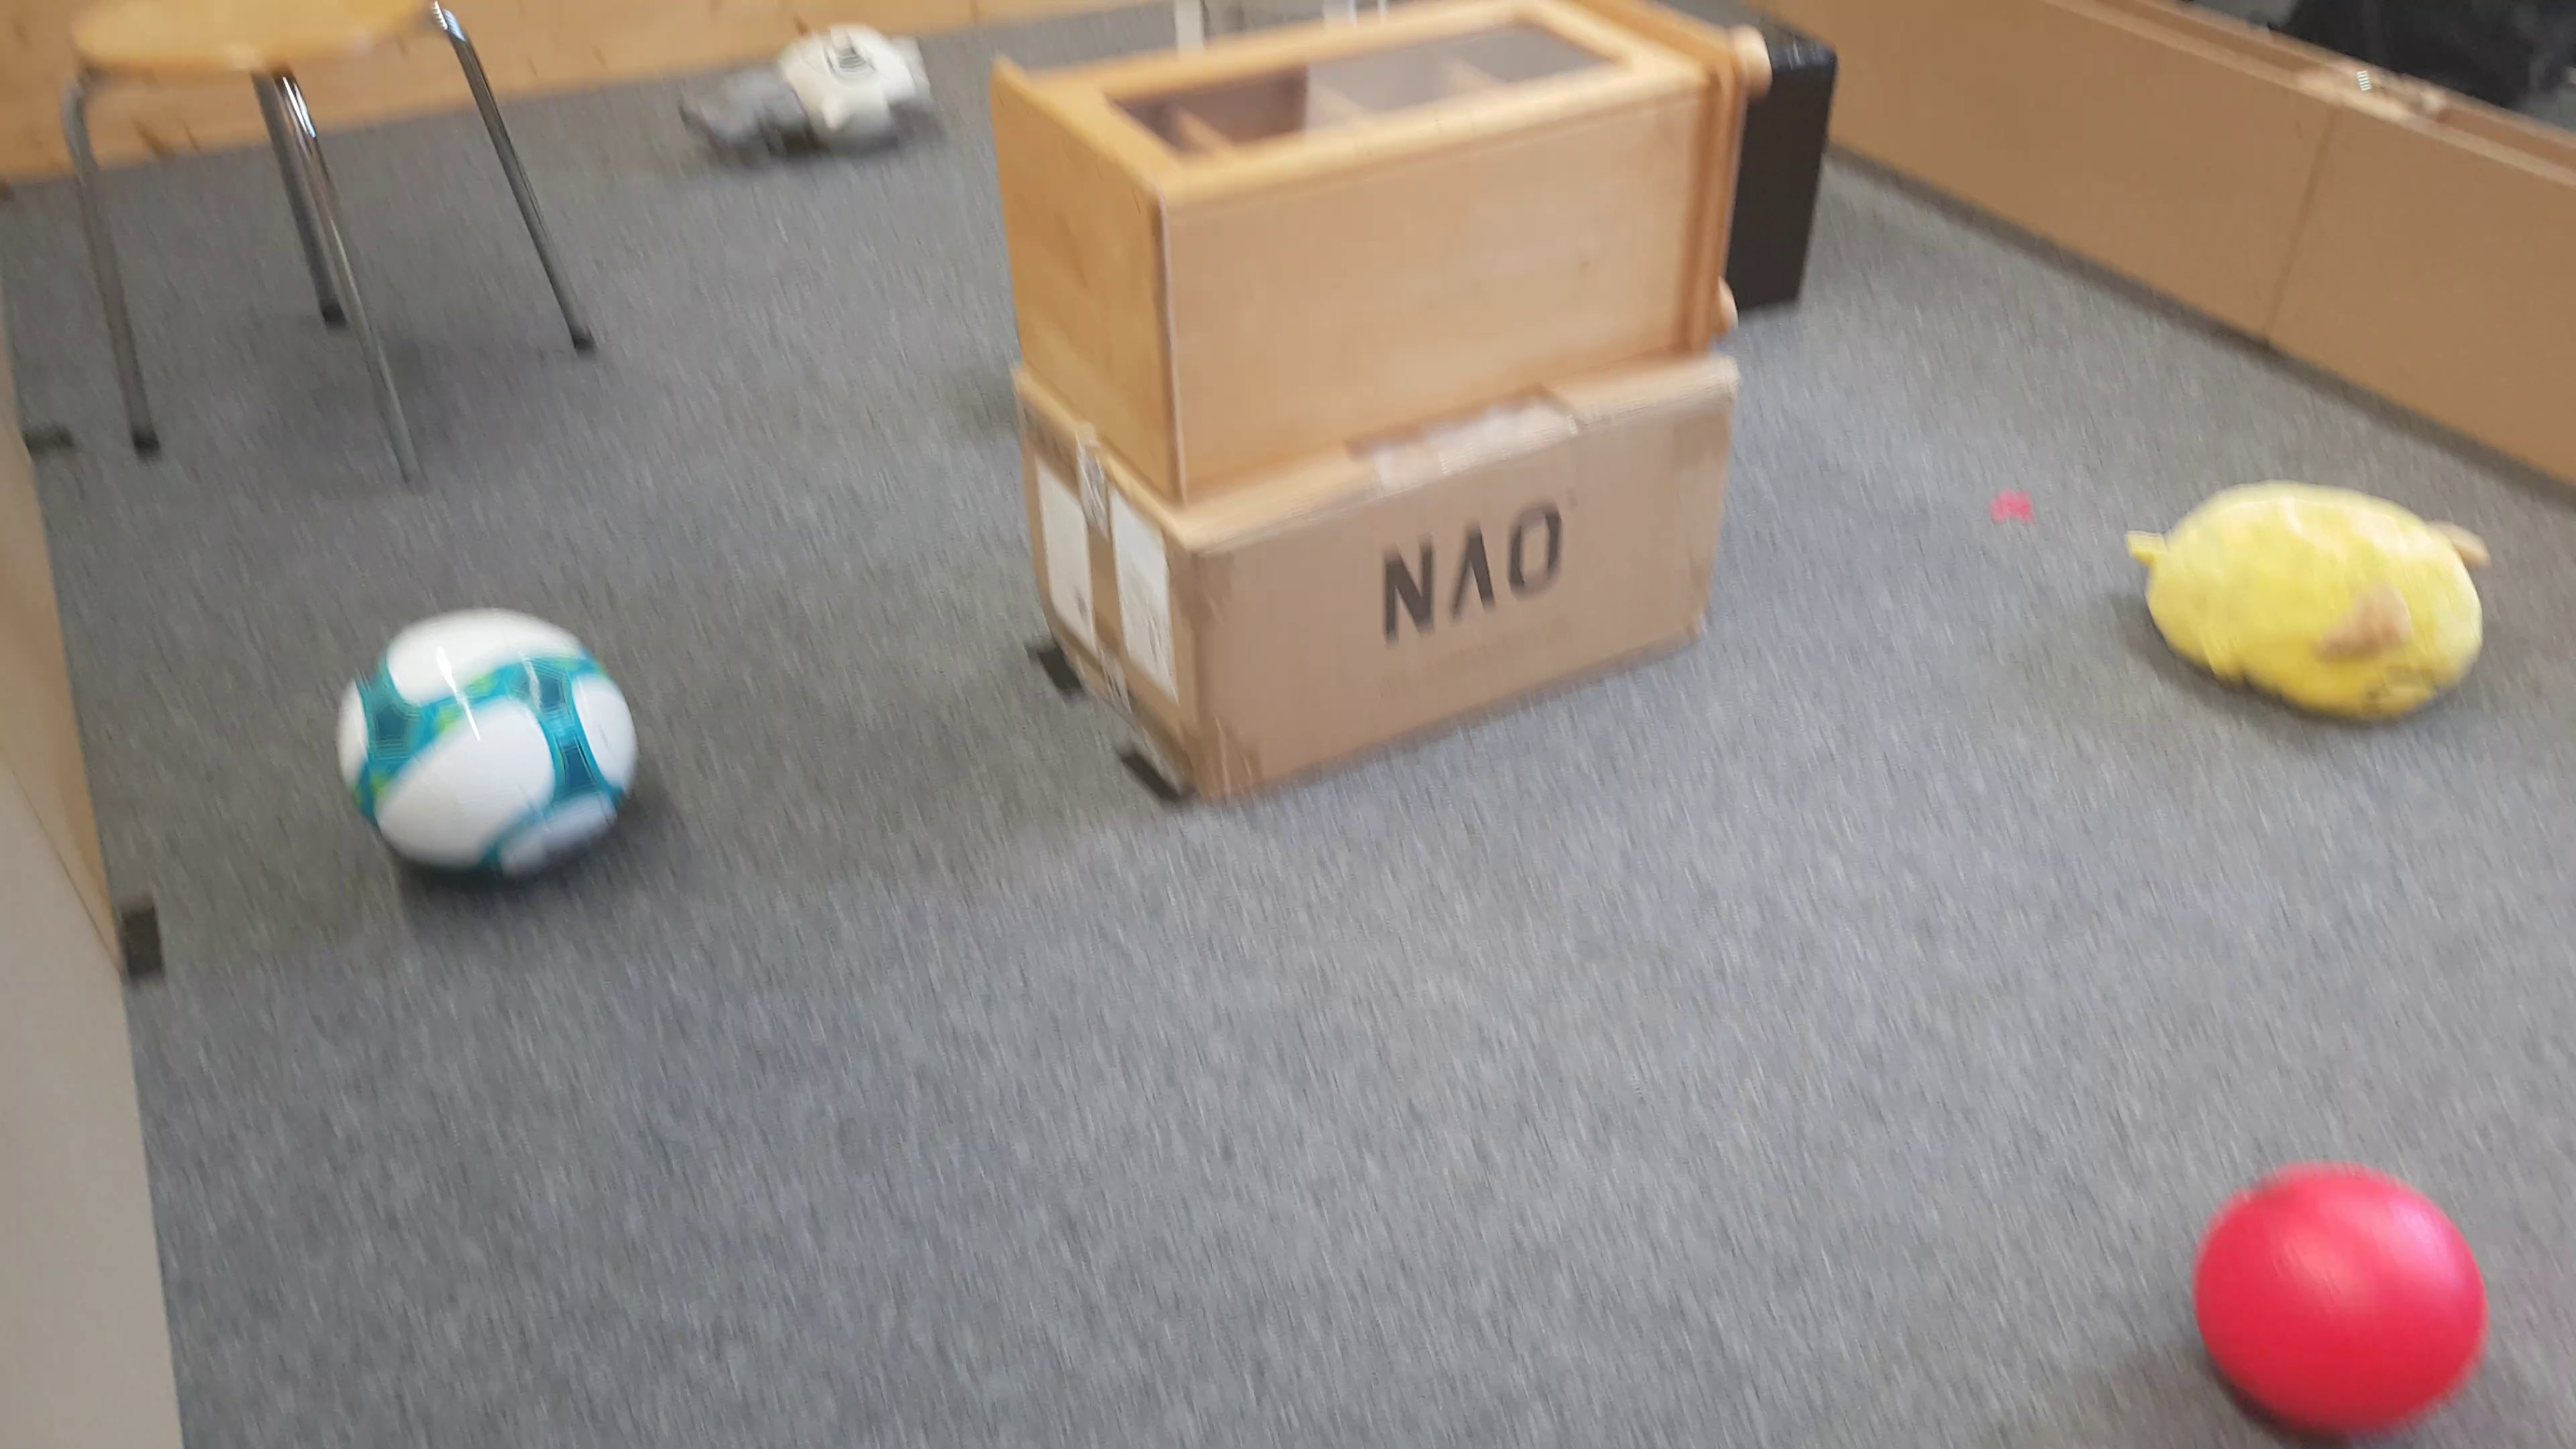grasp: (2116, 478, 2488, 736), (674, 23, 932, 168)
kick: (2189, 1159, 2495, 1449), (334, 610, 639, 883)
push: (1776, 32, 1840, 317)
